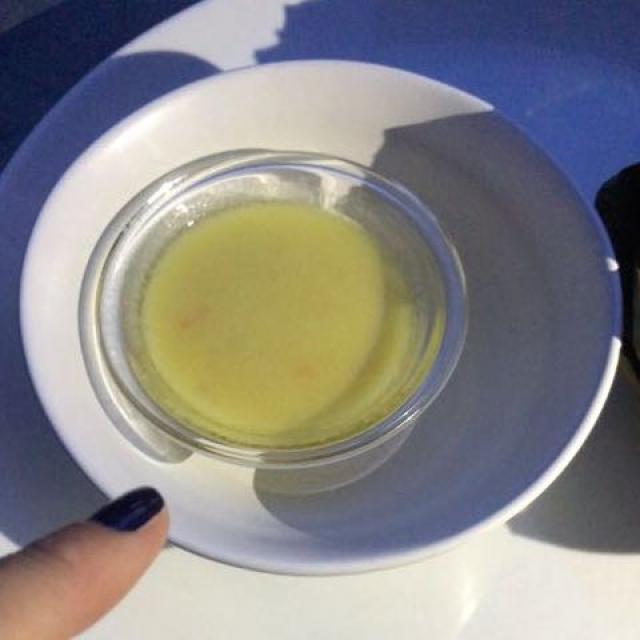oil-vinegar-salad-dressing: (146, 190, 431, 464)
